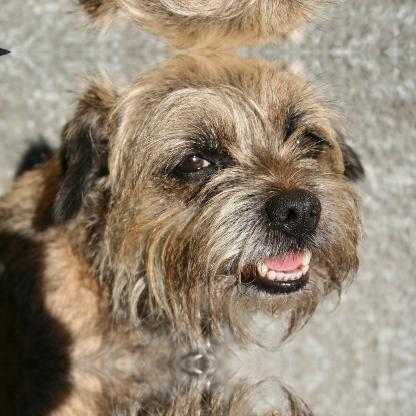Dog: (0, 52, 372, 362)
